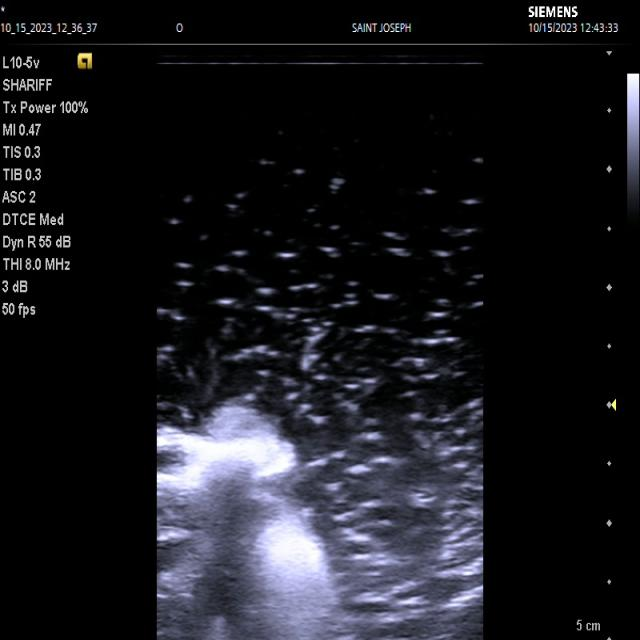tissue: (155, 404, 349, 640)
